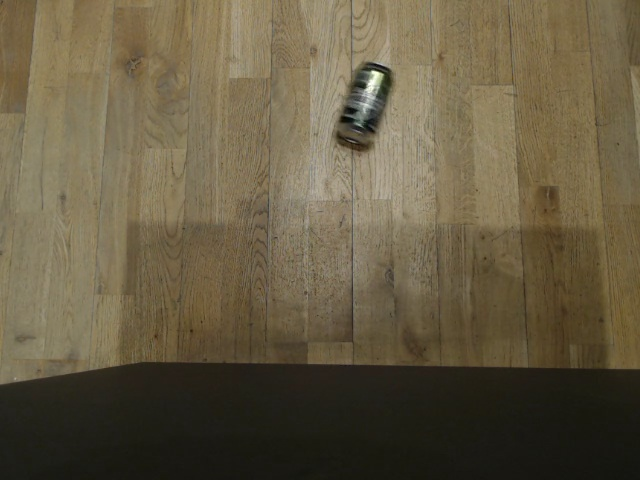beer: (331, 59, 393, 149)
